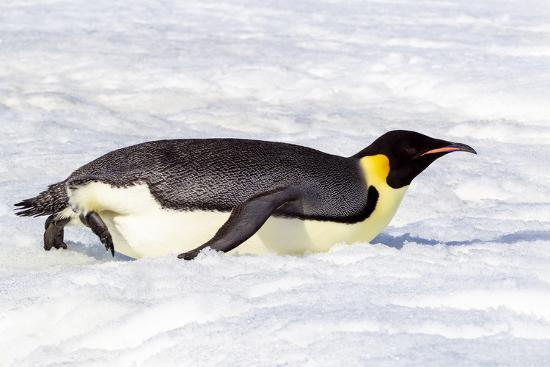emporer: (25, 89, 487, 270)
